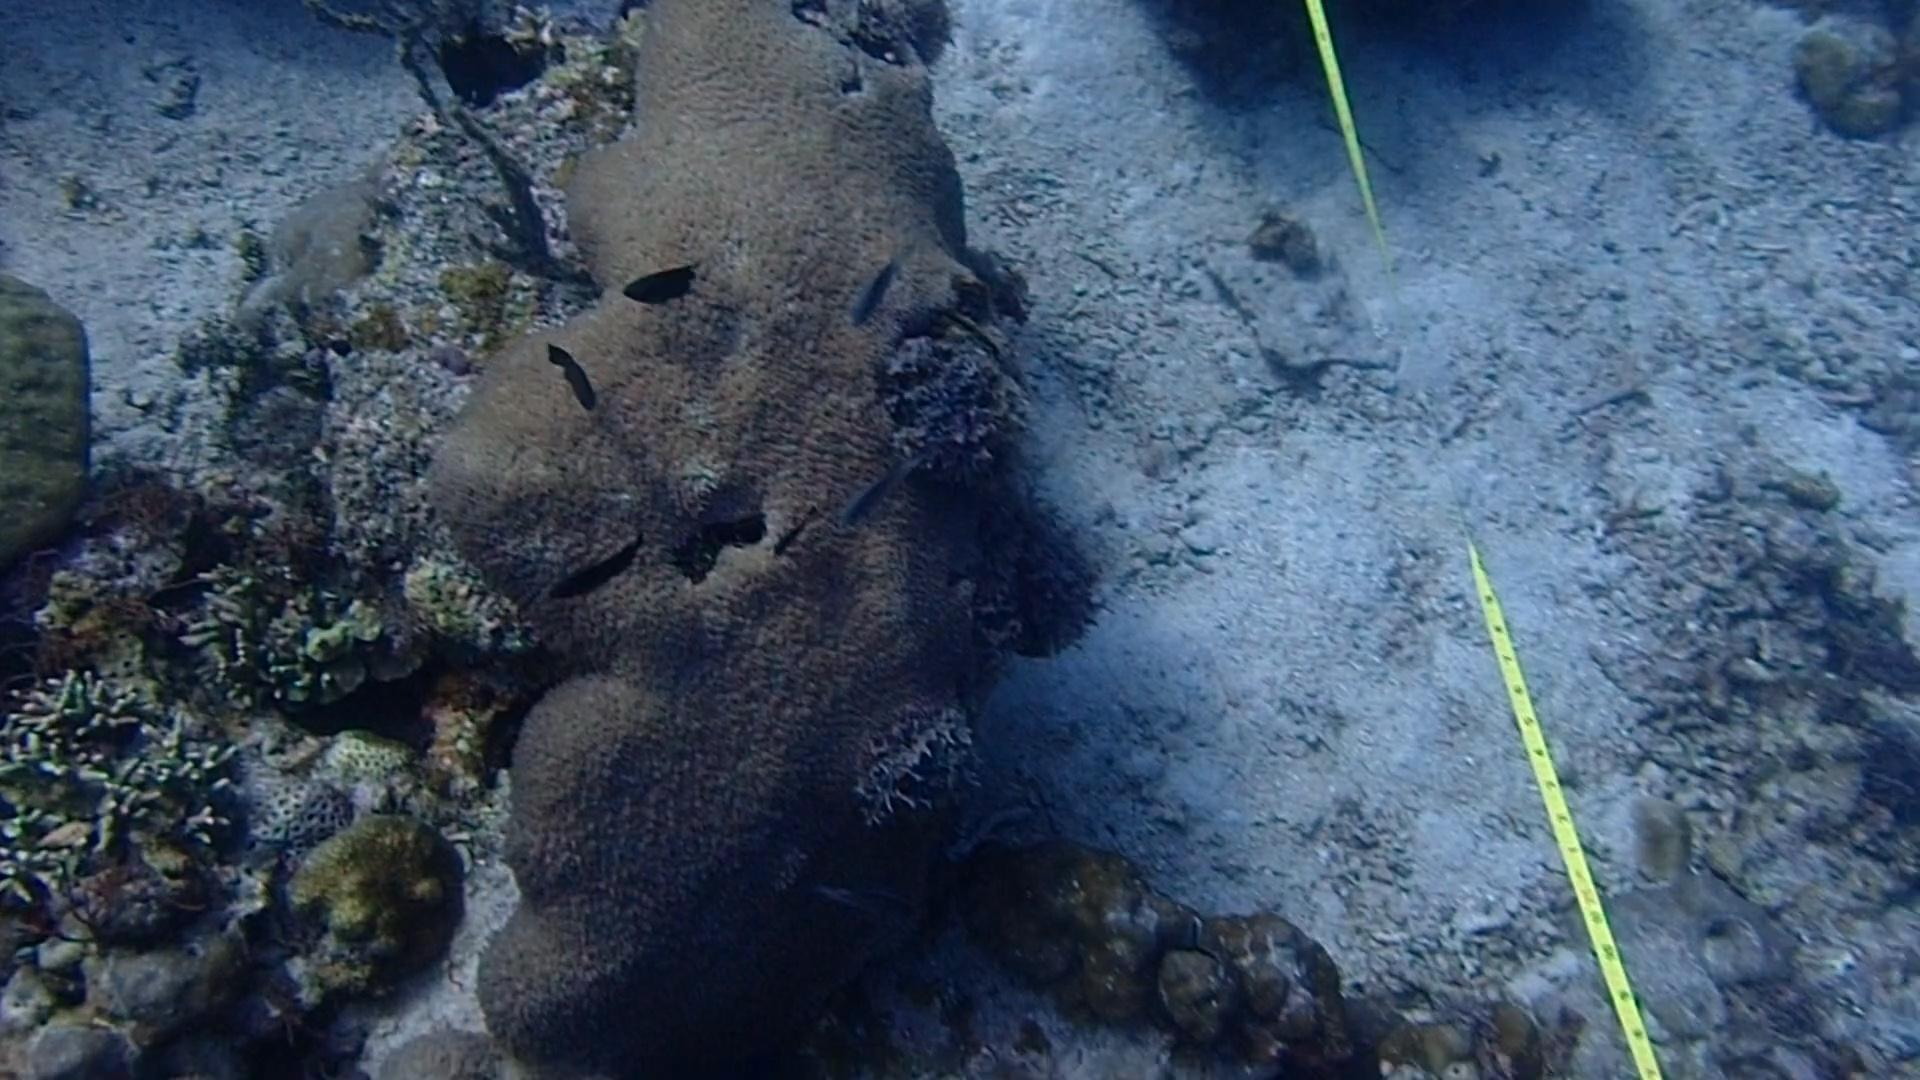Dark Fish: (538, 526, 638, 608), (531, 334, 605, 417), (621, 260, 698, 315), (764, 504, 822, 566)
Light Fish: (819, 872, 930, 939), (847, 443, 920, 527), (832, 248, 901, 327)
